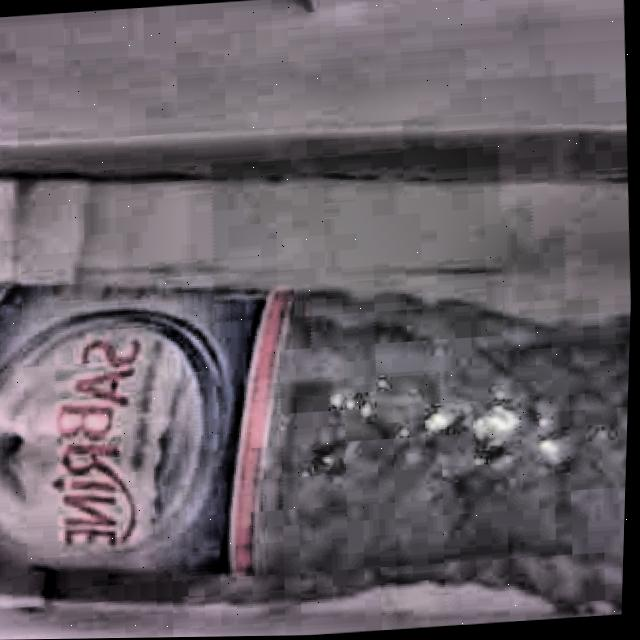plastic: (0, 214, 635, 640)
